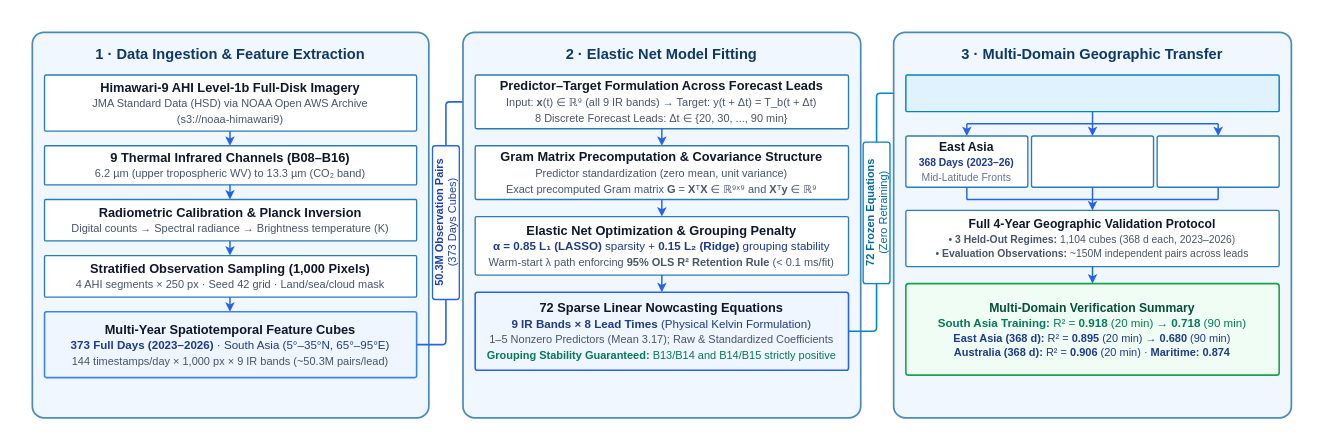
This 1320x447 diagram has some shape labels left out. The shapes that lost their labels are listed below. From the top down, each one's box as (x1, y1, x2, y2) in pixels, then its label:
(905, 74, 1279, 112): Apply Frozen Equations — No Retraining
(1030, 135, 1154, 187): Maritime Cont. 368 Days (2023–26) Equat. Convection
(1156, 135, 1279, 187): Australia 368 Days (2023–26) Subtropical & Arid
